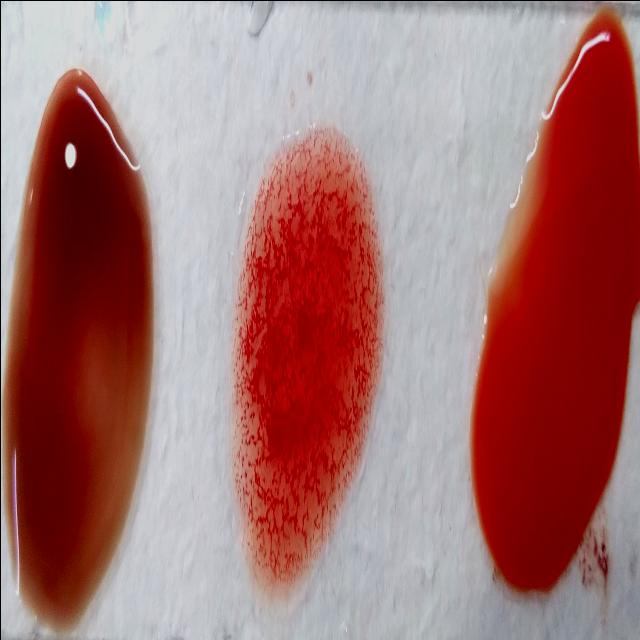D: (226, 116, 376, 612)
